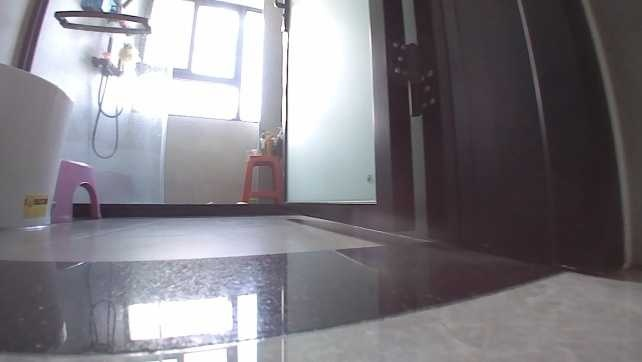door_anno: (270, 0, 544, 262)
plastic_stool: (50, 158, 100, 220), (239, 153, 285, 205)
toilet: (1, 60, 74, 230)
